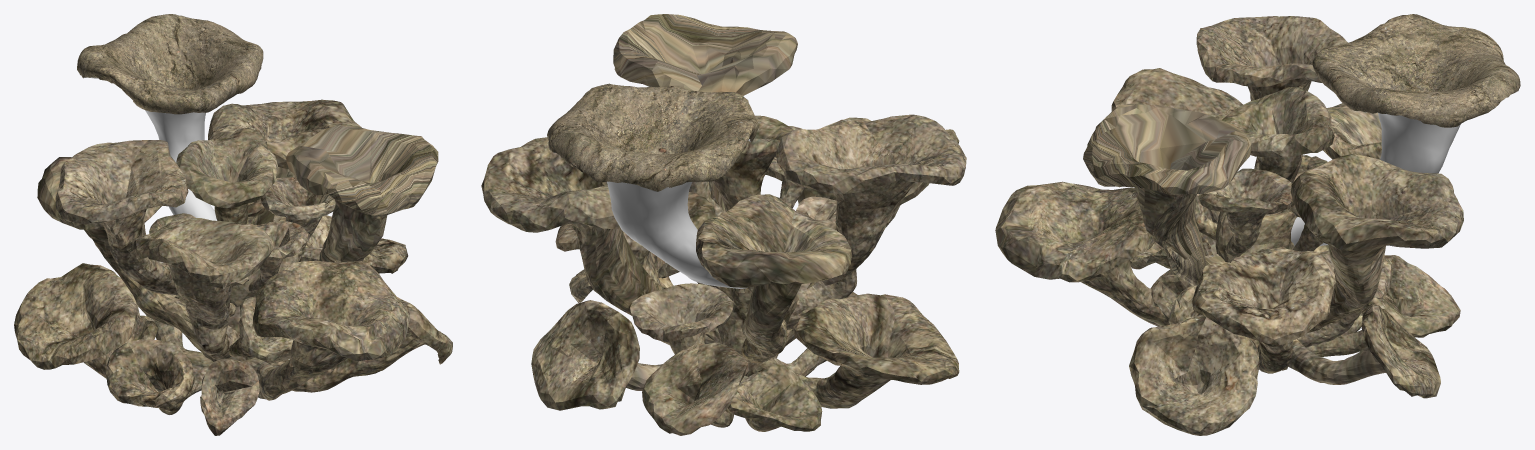
Rendered from mushroomDad.fbx.
3 renders of one model, left to right at view 1: azimuth 30°, elevation 25°; view 2: azimuth 150°, elevation 25°; view 3: azimuth 270°, elevation 25°, orthographic. The views are drawn at different scales.
Visible parts, largest first — view 1: Mushroom; view 2: Mushroom; view 3: Mushroom.
Boxes of the visible parts, <box> form: Mushroom: <box>14,14,452,435</box>; Mushroom: <box>481,14,966,435</box>; Mushroom: <box>995,14,1520,435</box>.
Bounding box in the file's own units: 14085 × 10327 × 15508.
Materials: 2 (1 with a texture image).
